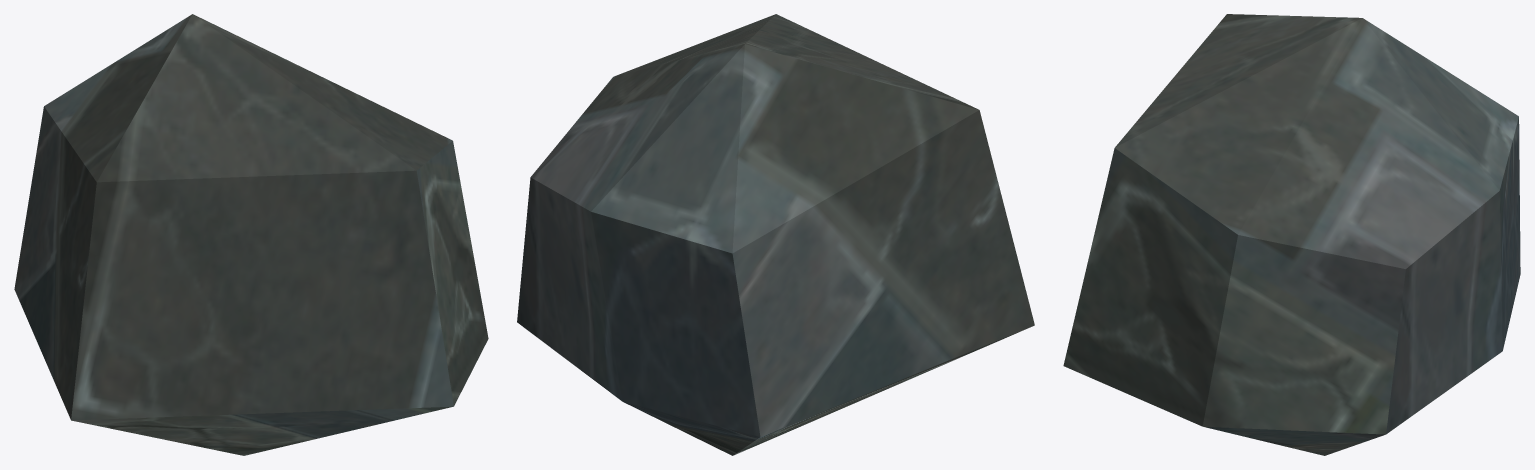
File: fx_rock01.fbx
3 views of the same model, side by side, from view 1: azimuth 30°, elevation 25°; view 2: azimuth 150°, elevation 25°; view 3: azimuth 270°, elevation 25° (orthographic). The views are drawn at different scales.
Visible parts, largest first — view 1: polySurface5; view 2: polySurface5; view 3: polySurface5.
Boxes of the visible parts, <box> form: polySurface5: <box>14,14,488,455</box>; polySurface5: <box>517,14,1034,455</box>; polySurface5: <box>1063,14,1520,455</box>.
Size of the model in its own units: 0.4418 by 0.4346 by 0.4257.
